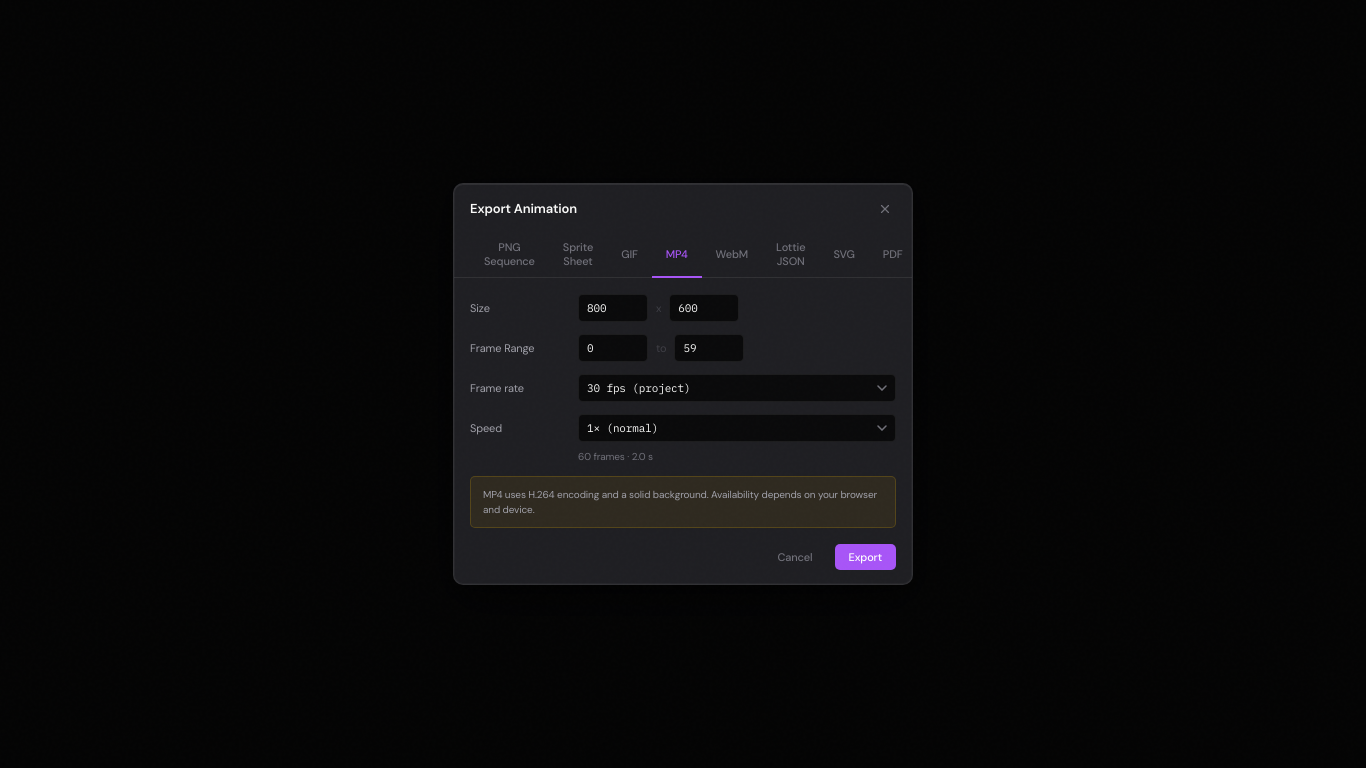
Scenario: ExportDialog › video layers › says after a video export which videos couldn’t be decoded, and stays open to say so
Click the button with test id "export-dialog-export".
click(865, 557)  # box [834,544,896,570]
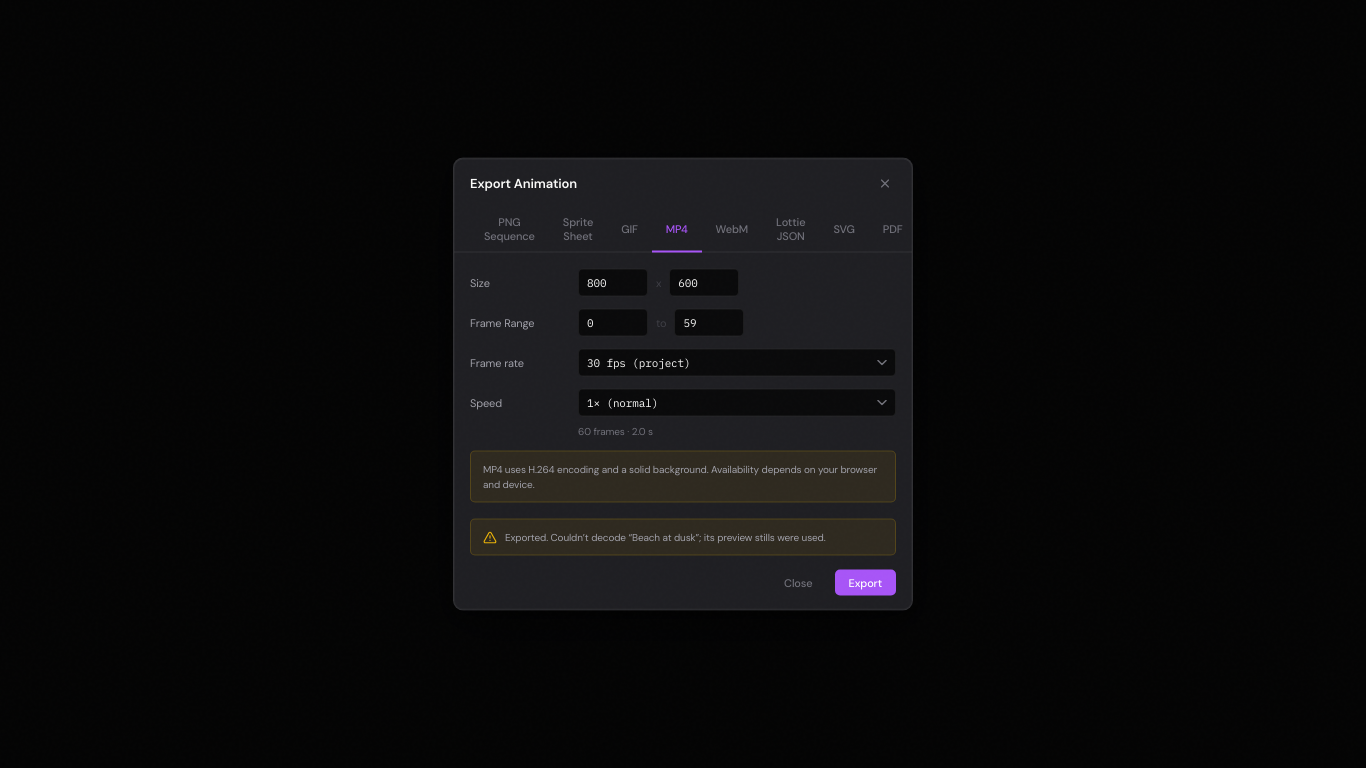
Expected: the dialog with test id "export-dialog" is shown, [453,158,913,610]
Now the message with test id "export-video-problems" reads "Exported. Couldn’t decode “Beach at dusk”; its preview stills were used.", box [505,530,826,544]
Now the button with test id "export-dialog-cancel" reads "Close", box [770,570,826,596]
